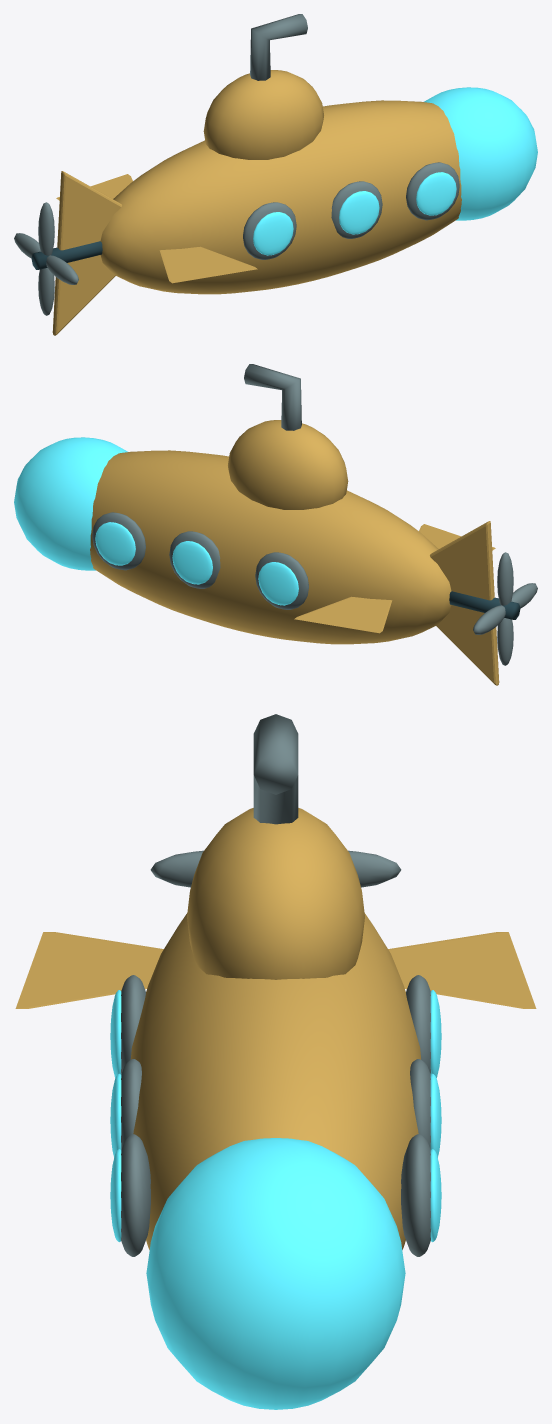
The picture shows the model from 3 angles, top to bottom: view 1: azimuth 30°, elevation 25°; view 2: azimuth 150°, elevation 25°; view 3: azimuth 270°, elevation 25°; orthographic projection. The views are drawn at different scales.
Parts seen in each view (by area): view 1: Survey submarine; view 2: Survey submarine; view 3: Survey submarine.
Boxes of the visible parts, box(x1,y1,x2,y2) form: Survey submarine: box(14, 14, 537, 335); Survey submarine: box(14, 364, 537, 685); Survey submarine: box(15, 714, 536, 1409).
Size of the model in its own units: 2.82 by 1.43 by 1.29.
